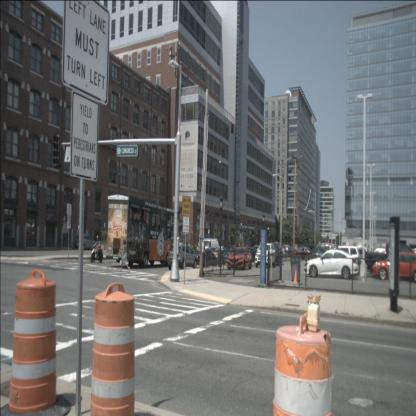human-pedestrian-adult: (119, 239, 130, 272), (188, 242, 191, 255)
movable_object-trafficcone: (0, 268, 71, 416), (264, 294, 344, 416), (82, 282, 146, 415), (293, 269, 298, 284)
vehicle-bus-rigid: (106, 195, 179, 268)
vehicle-car: (304, 250, 360, 280), (372, 249, 416, 280), (311, 243, 350, 273), (326, 245, 361, 272), (167, 244, 197, 270), (227, 247, 252, 270), (254, 243, 275, 269), (194, 248, 217, 267), (267, 242, 283, 266), (74, 234, 98, 250), (201, 240, 219, 260), (210, 246, 228, 264), (289, 247, 312, 261), (223, 246, 237, 265)
vehicle-motorcycle: (90, 236, 103, 263)
vehicle-truck: (365, 242, 415, 277)
